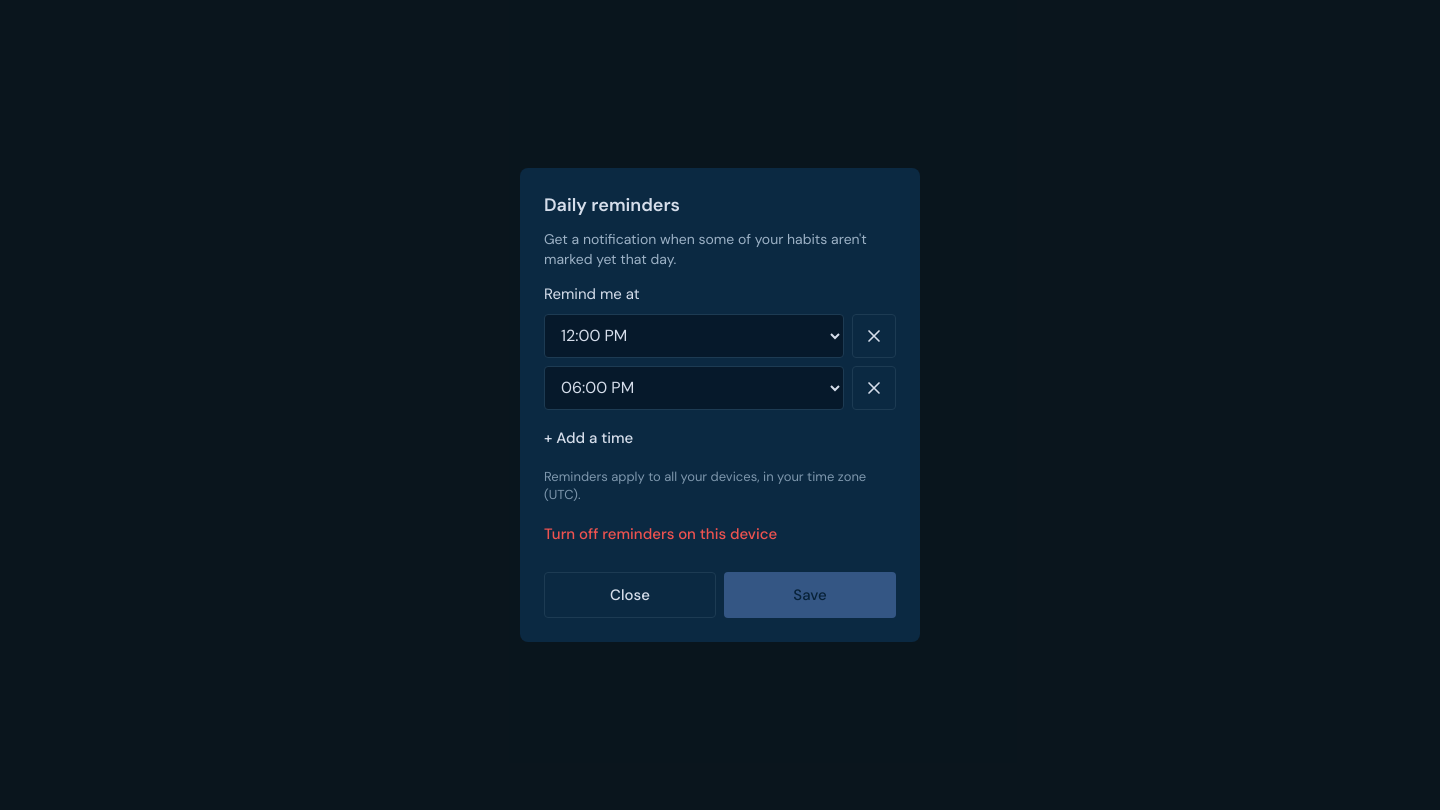
Scenario: ReminderDialog - daily reminder on this device › should let the user choose up to three times, each only once
This screenshot has width=1440, height=810.
Expected: the dropdown named "Reminder 1" shows "12:00 PM", 544,314 -> 844,358
Expected: the dropdown named "Reminder 2" shows "06:00 PM", 544,366 -> 844,410
Click the button "+ Add a time". click: (589, 438)
box: 534,418 -> 643,458
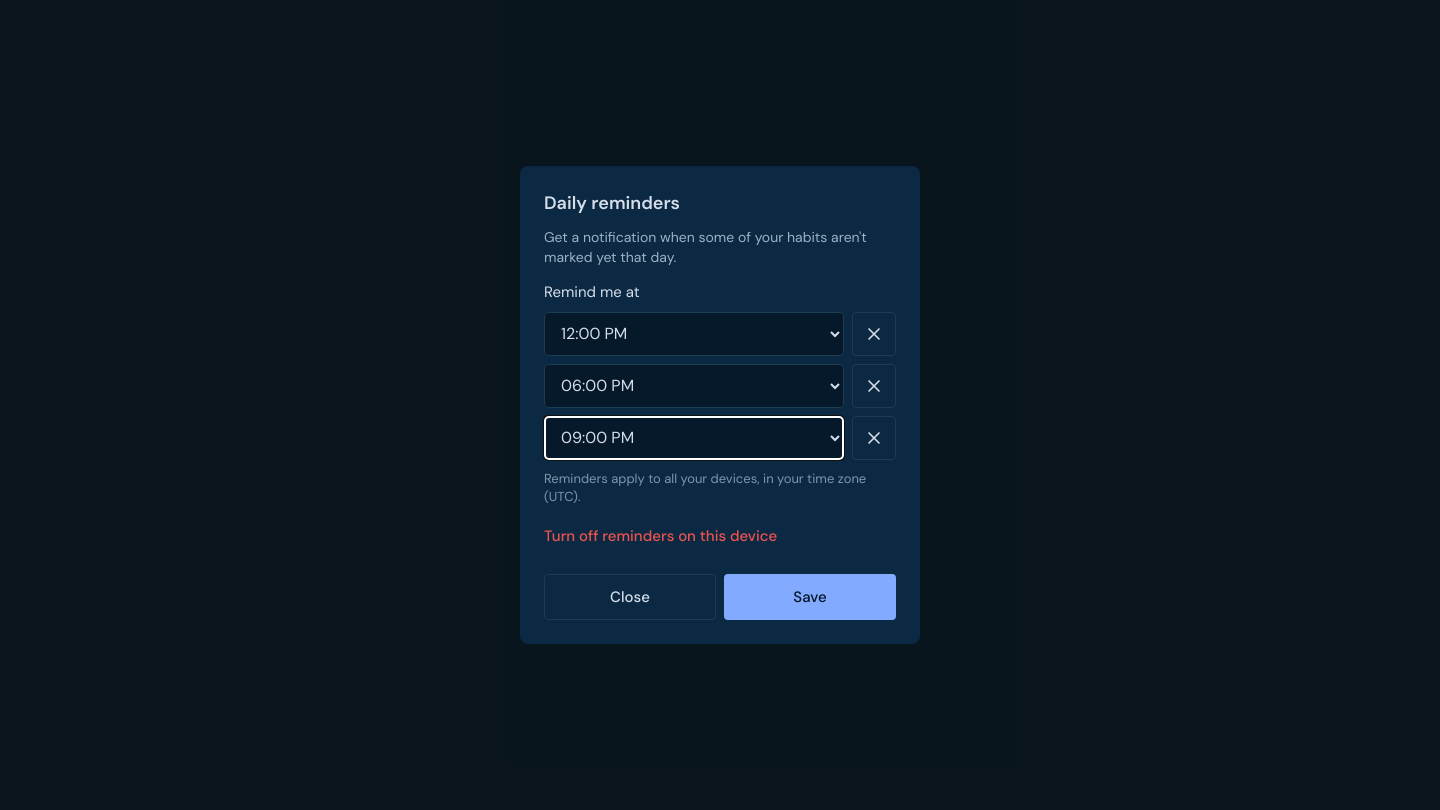
Expected: the dropdown named "Reminder 3" shows "09:00 PM", 544,416 -> 844,460
Expected: the button "Add a time" is gone
Expected: the button "Save" is enabled, 724,574 -> 896,620
# Back to the saved times: nothing to save. Focus stays in the list.
Click the button named "Remove the reminder at 09:00 PM". click: (874, 438)
box: 852,416 -> 896,460
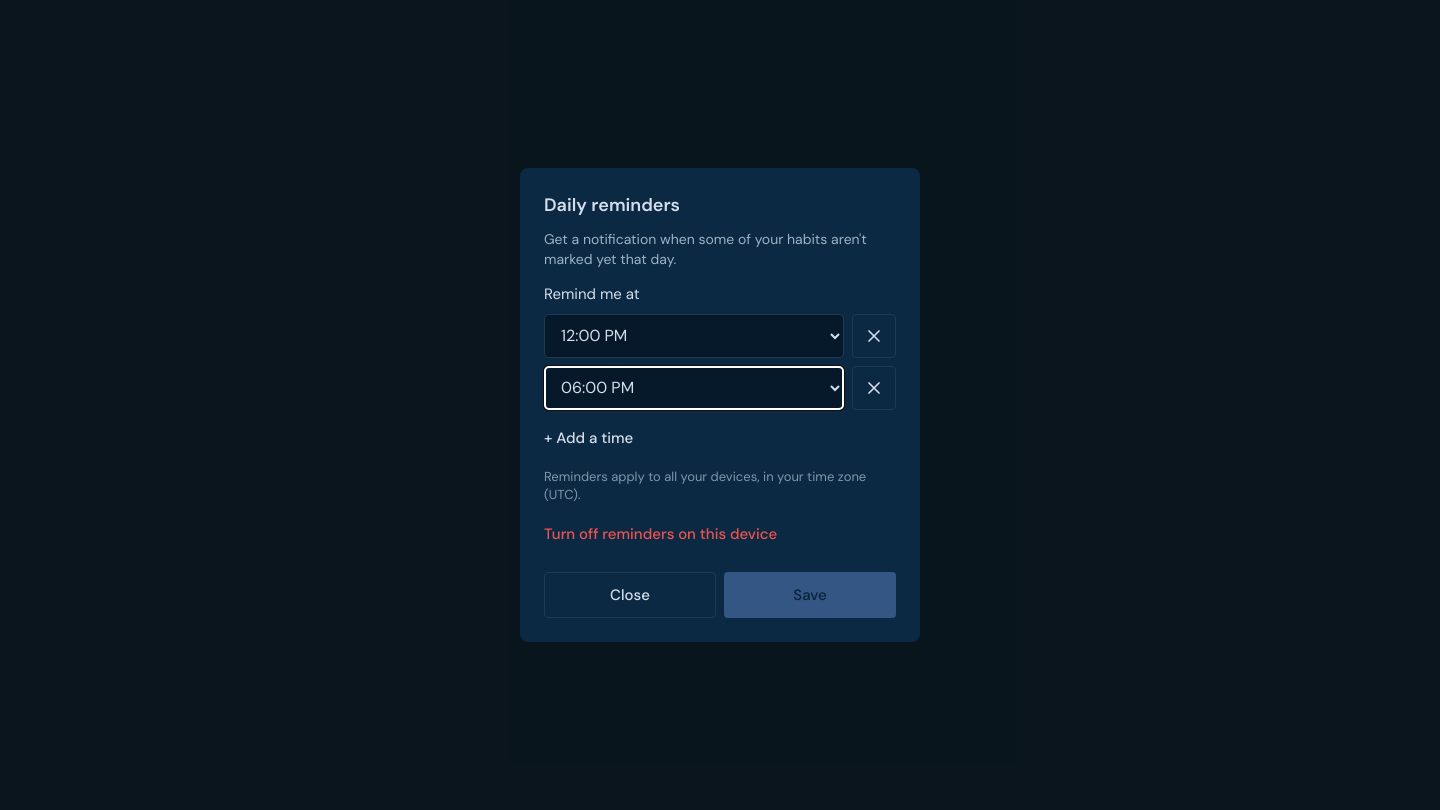
Expected: the button "Save" is disabled, 724,572 -> 896,618
Click the button "+ Add a time". click: (589, 438)
box: 534,418 -> 643,458
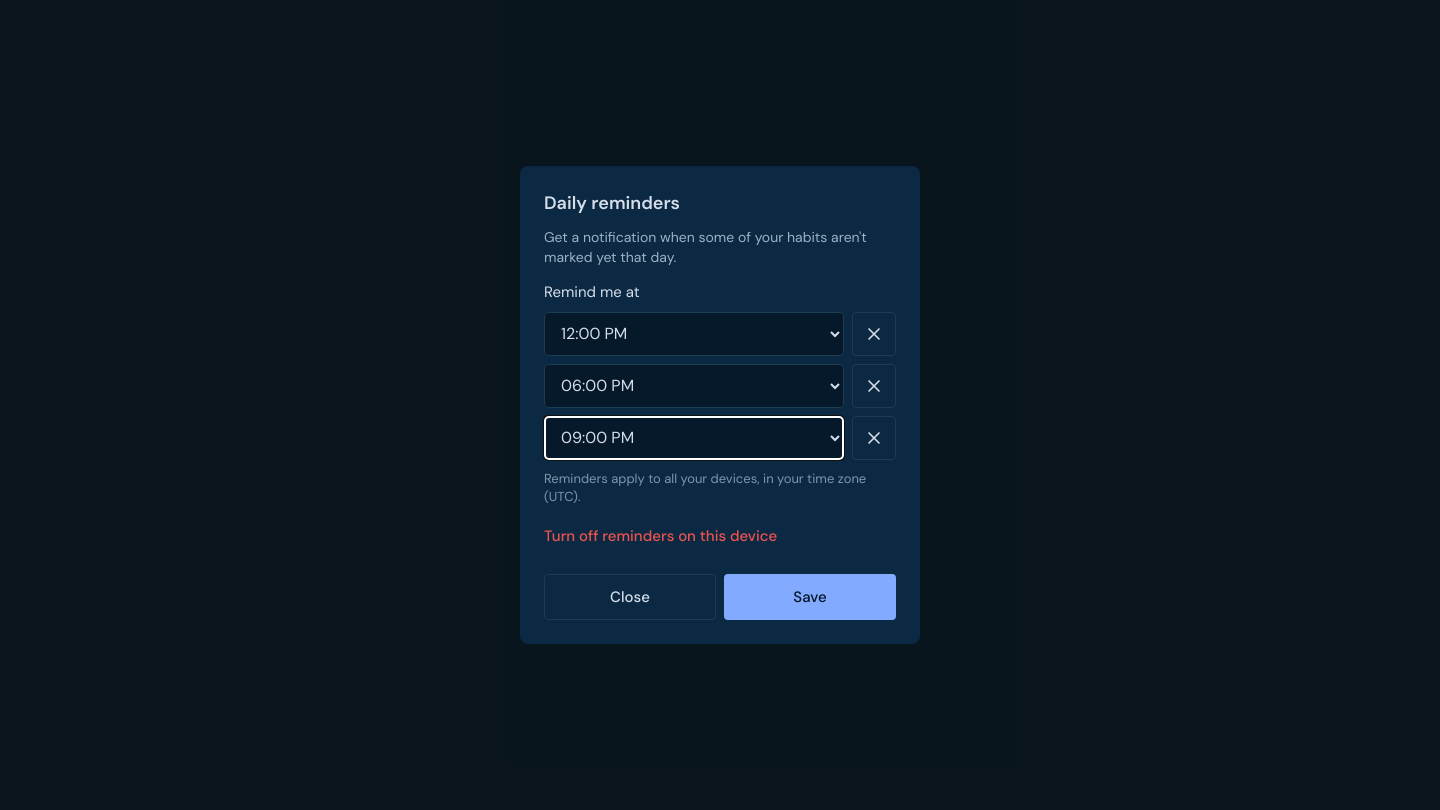
Click the button named "Remove the reminder at 12". click: (874, 334)
box: 852,312 -> 896,356
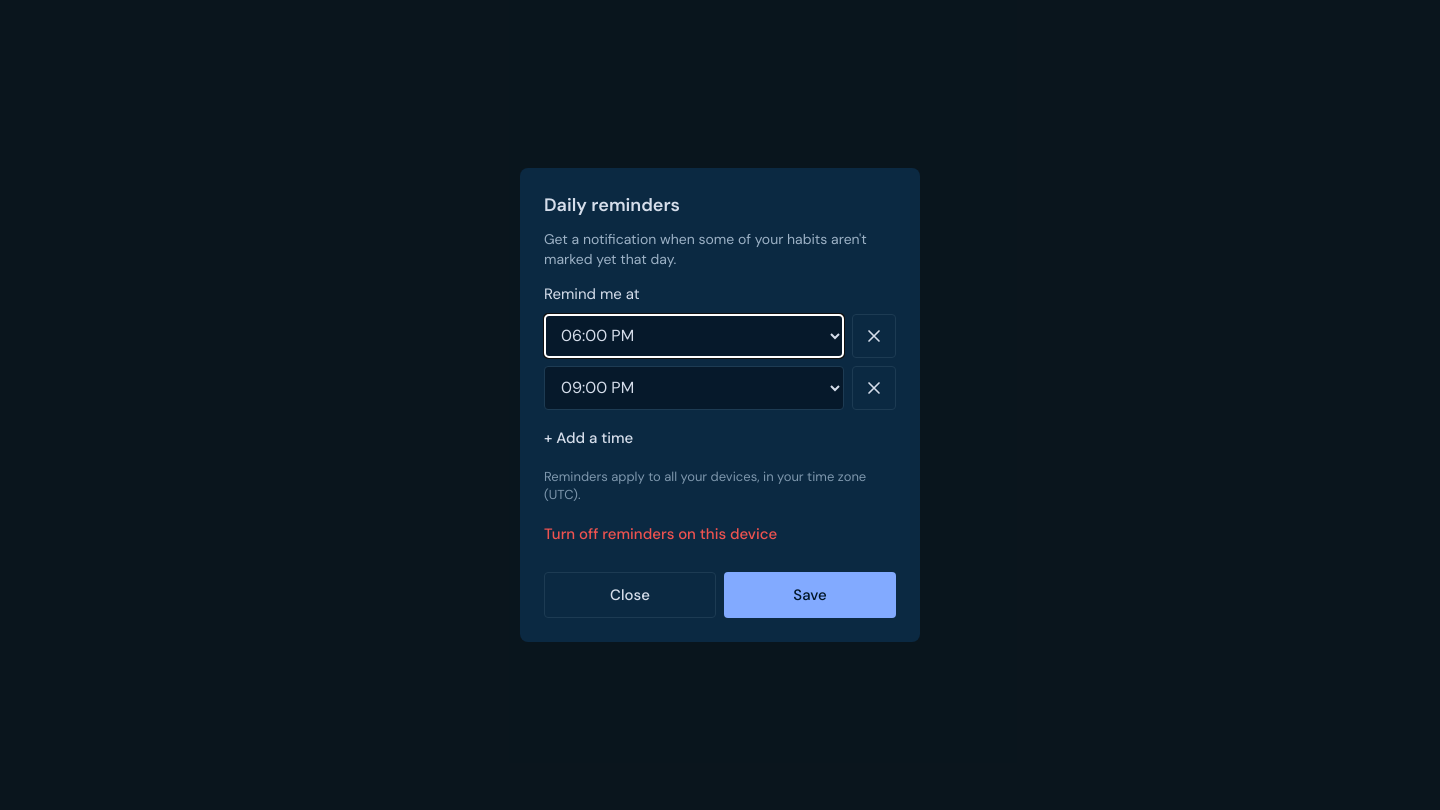
Expected: the number of dropdowns is 2, 544,314 -> 844,358; 544,366 -> 844,410
Click the button "Save". click: (810, 595)
box: 724,572 -> 896,618
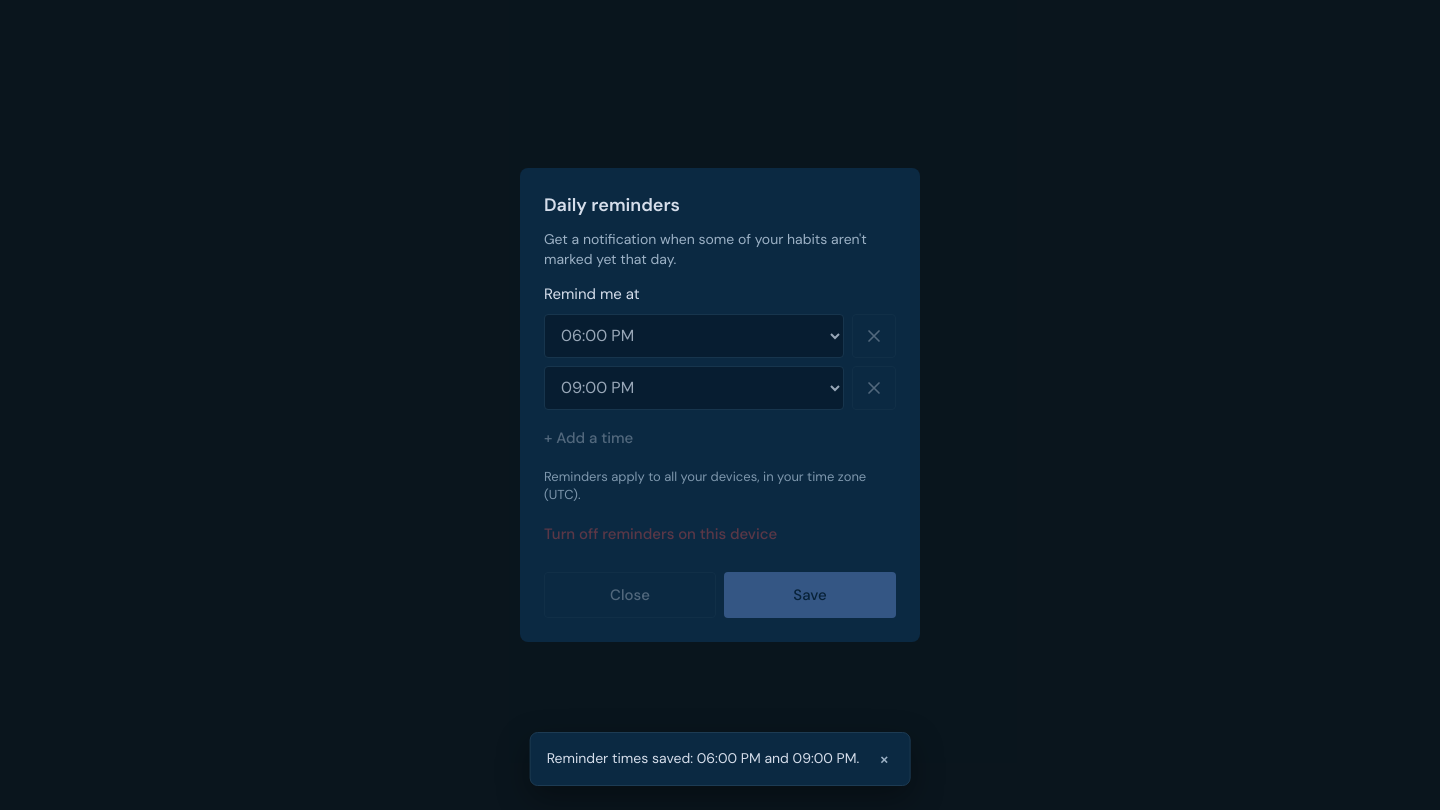
Expected: the message shows "Reminder times saved:", 547,749 -> 859,767
